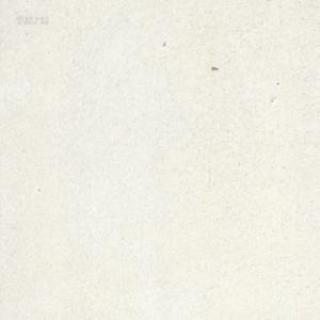Nailtrack_idkeyframe: (210, 64, 218, 69)
